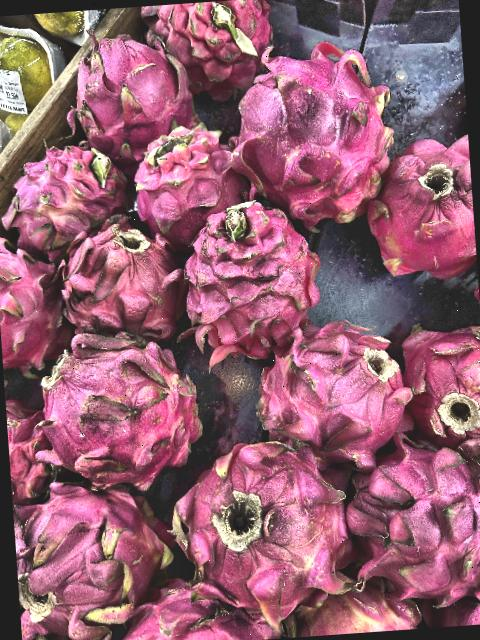buah-naga-belum-matang: (281, 584, 414, 638)
buah-naga-matang: (168, 440, 339, 616), (11, 465, 163, 640), (34, 328, 204, 484), (234, 45, 386, 216), (343, 436, 480, 611), (240, 316, 403, 454), (179, 194, 321, 352), (354, 126, 478, 287), (55, 27, 197, 148), (121, 125, 251, 238), (60, 221, 180, 340), (142, 0, 281, 99), (0, 140, 119, 243), (396, 311, 480, 443), (111, 575, 269, 640), (0, 233, 70, 369), (5, 394, 51, 486)
